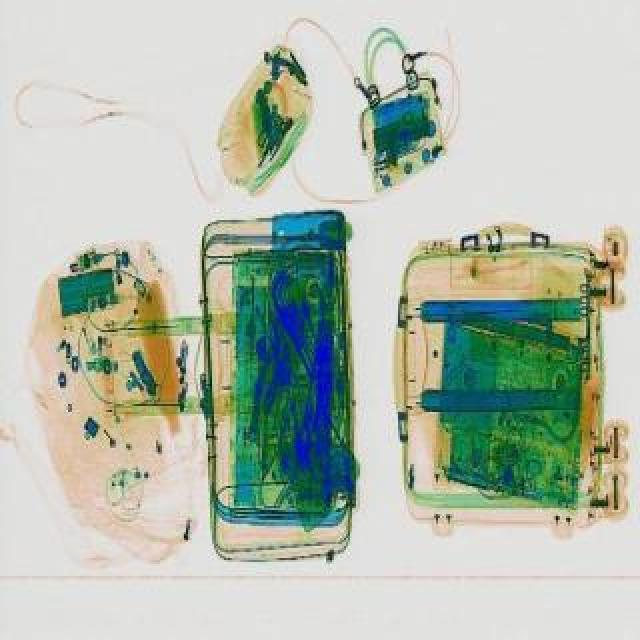scissors: (240, 336, 278, 446)
